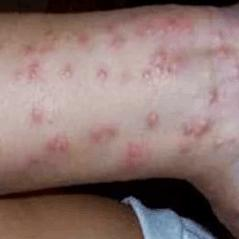Fleas: (42, 134, 84, 161), (135, 22, 194, 41), (148, 50, 185, 75), (181, 115, 216, 141), (88, 125, 120, 147), (102, 28, 127, 50), (143, 68, 172, 84), (142, 110, 162, 130), (127, 143, 142, 167), (70, 34, 93, 49), (25, 65, 42, 81), (94, 67, 111, 82), (212, 46, 232, 58), (32, 107, 45, 124), (207, 85, 217, 105), (61, 70, 73, 81), (25, 45, 37, 54), (216, 138, 226, 146)
